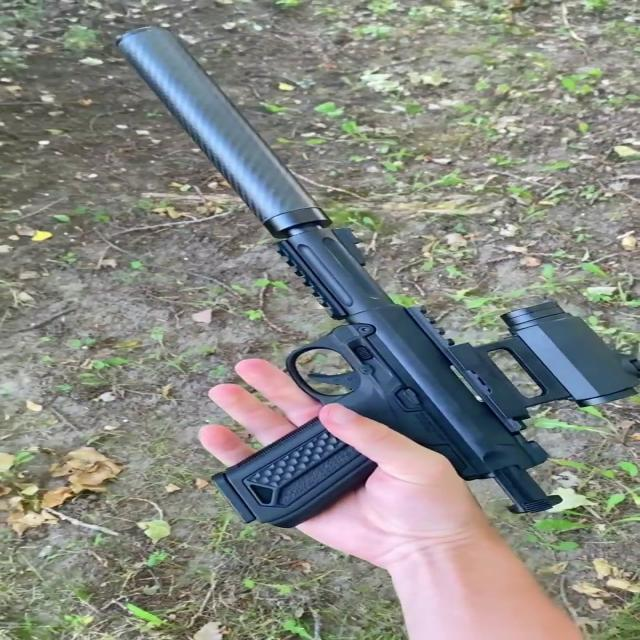Handgun: (84, 19, 638, 572)
